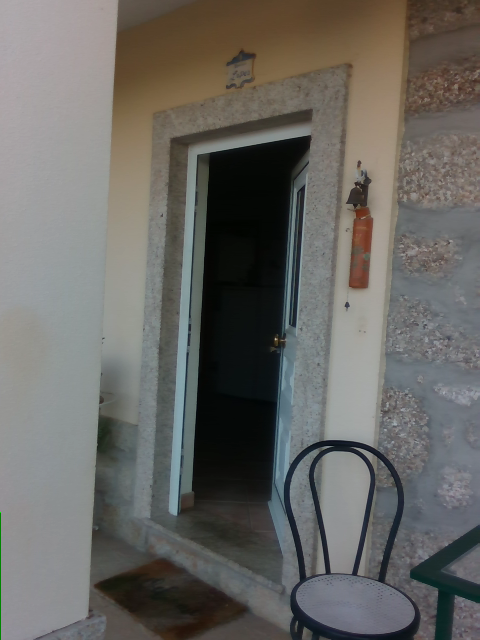semi: (168, 119, 315, 559)
